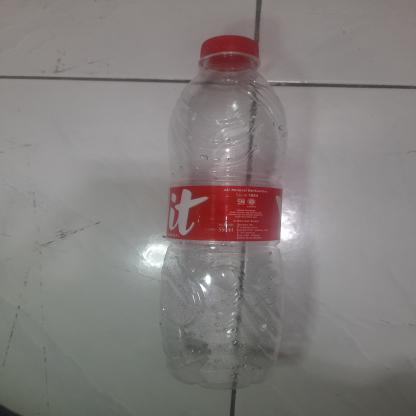bottle: (157, 32, 301, 388)
